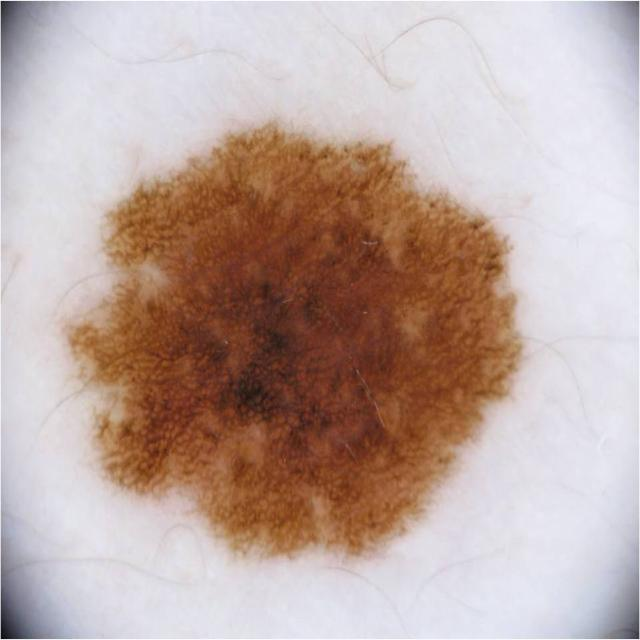Benign: (67, 119, 525, 570)
